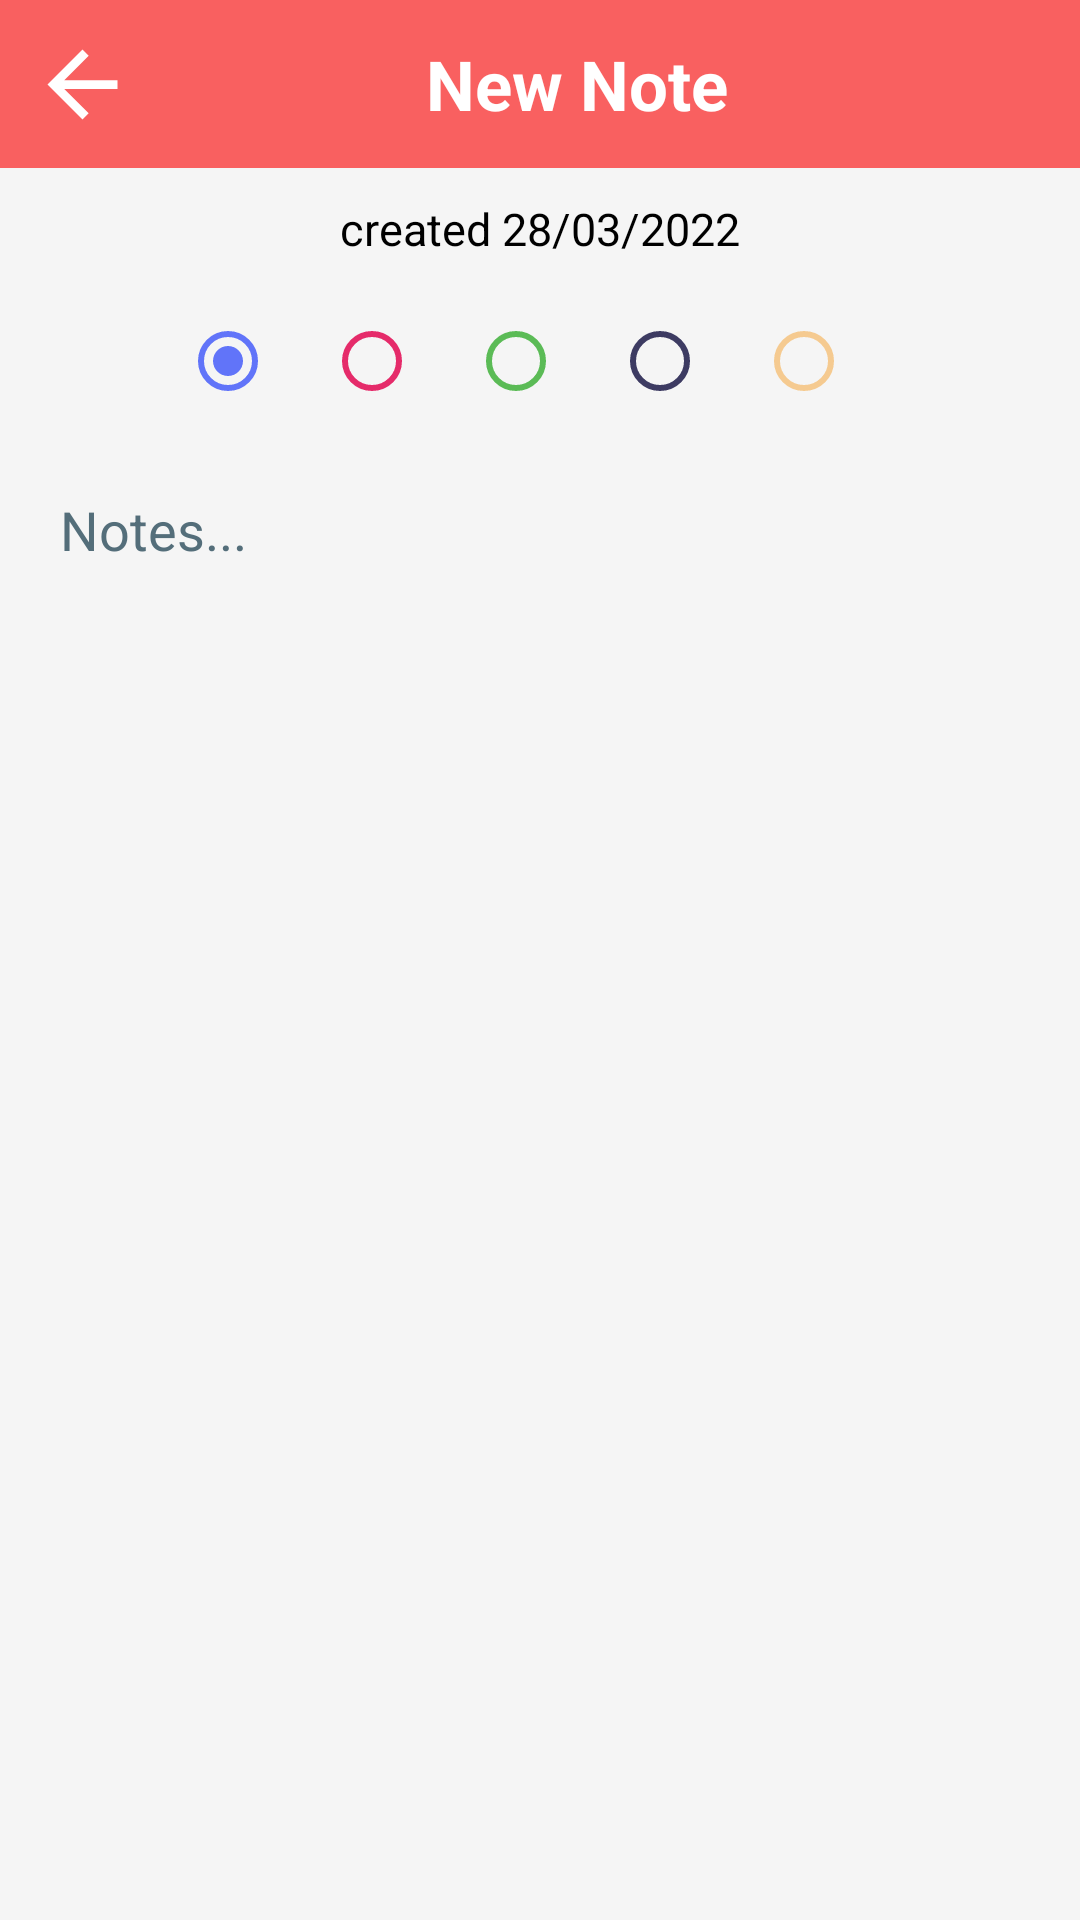

Icons on this 1080 x 1920 Android screen, each with its box as (x1, y1, x2, y2):
arrow back: (47, 49, 118, 120)
